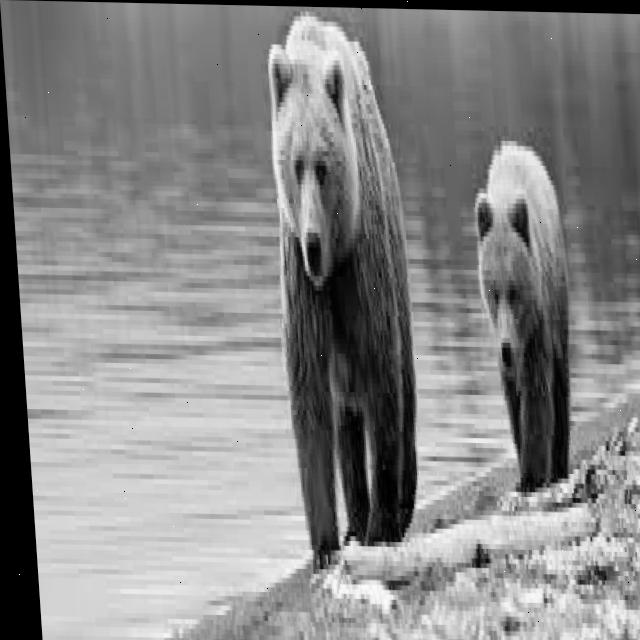Bear: (256, 20, 434, 559), (468, 139, 584, 492)
